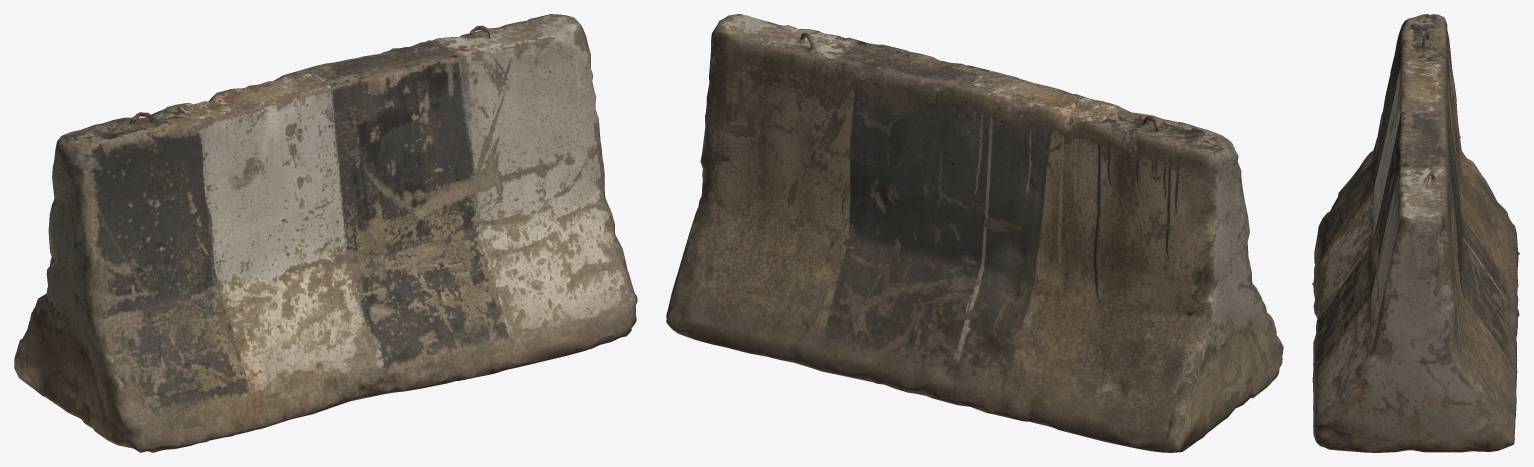
File: concrete_road_barrier.glb
The picture shows the model from 3 angles, left to right: view 1: azimuth 30°, elevation 25°; view 2: azimuth 150°, elevation 25°; view 3: azimuth 270°, elevation 25°; orthographic projection. The views are drawn at different scales.
Visible parts, largest first — view 1: concrete_road_barrier; view 2: concrete_road_barrier; view 3: concrete_road_barrier.
Boxes of the visible parts, x1,y1,x2,y2 form: concrete_road_barrier: (14, 14, 637, 452); concrete_road_barrier: (666, 14, 1283, 452); concrete_road_barrier: (1312, 14, 1519, 452).
Size of the model in its own units: 1.54 by 0.8304 by 0.6387.
1 material, 1 textured.
